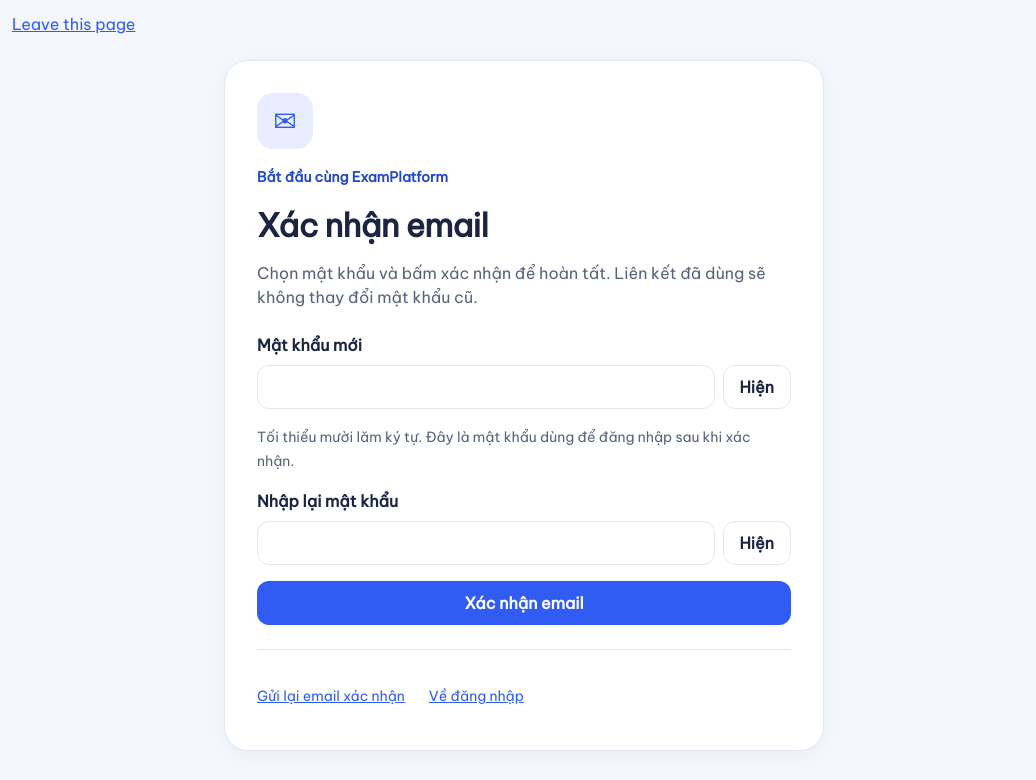
Test: identity request and session fences › does not navigate back to login after verification finishes on a different route
The image size is (1036, 780).
Type "fixture-password-ok" into the password field labelled "Mật khẩu mới".
click(486, 387); type("fixture-password-ok")  # box [257, 365, 714, 409]
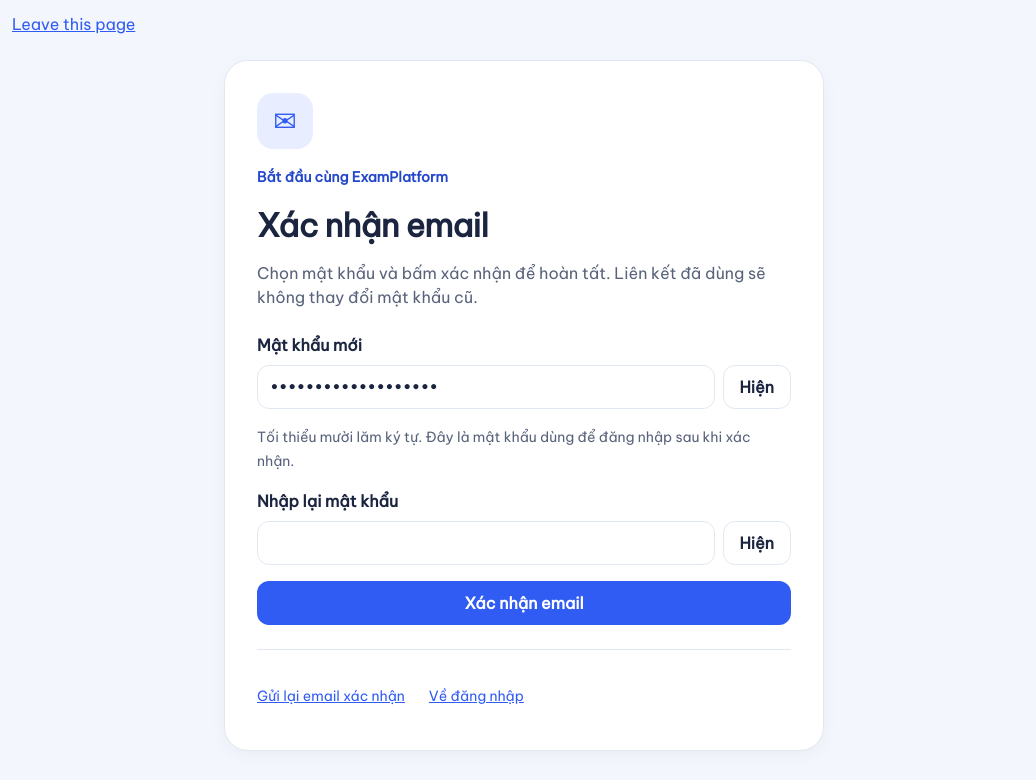
Type "fixture-password-ok" into the password field labelled "Nhập lại mật khẩu".
click(486, 543); type("fixture-password-ok")  # box [257, 521, 714, 565]
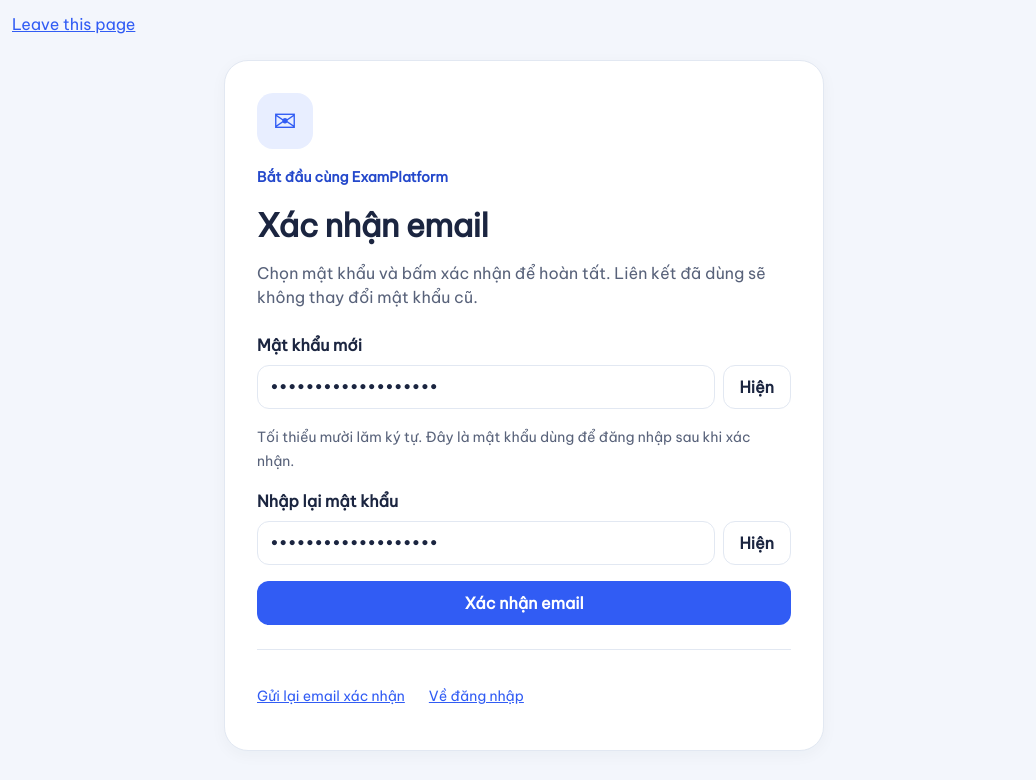
Click the button "Xác nhận email".
click(524, 603)  # box [257, 581, 791, 625]
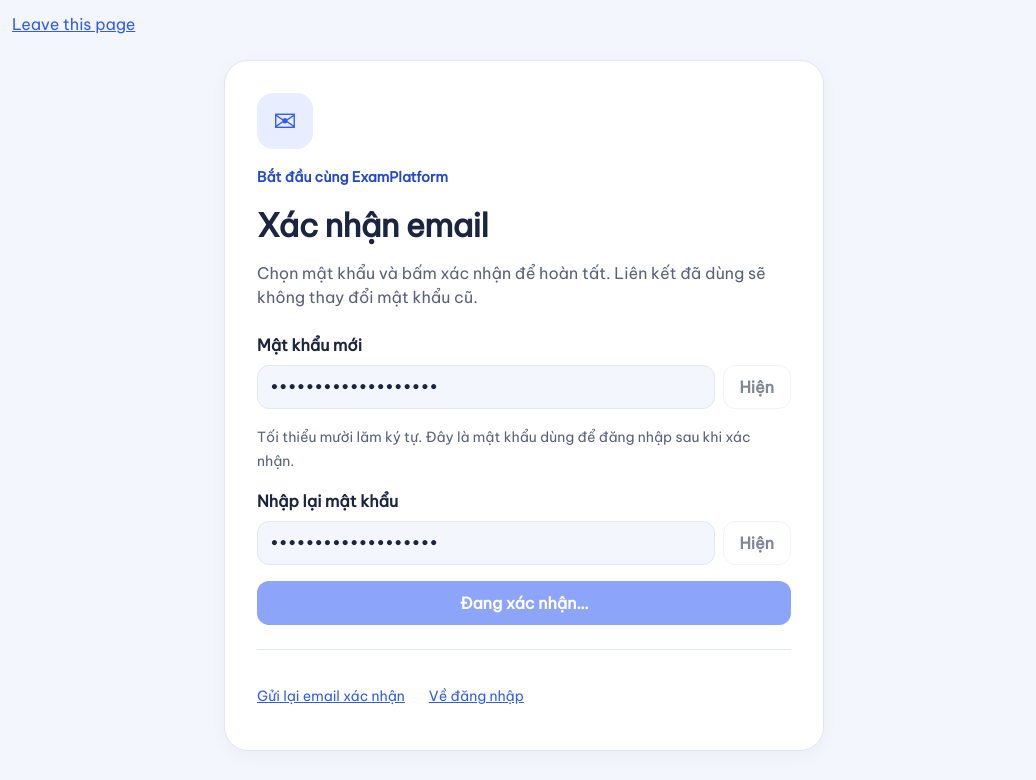
Click the link "Leave this page".
click(74, 24)  # box [12, 14, 135, 34]
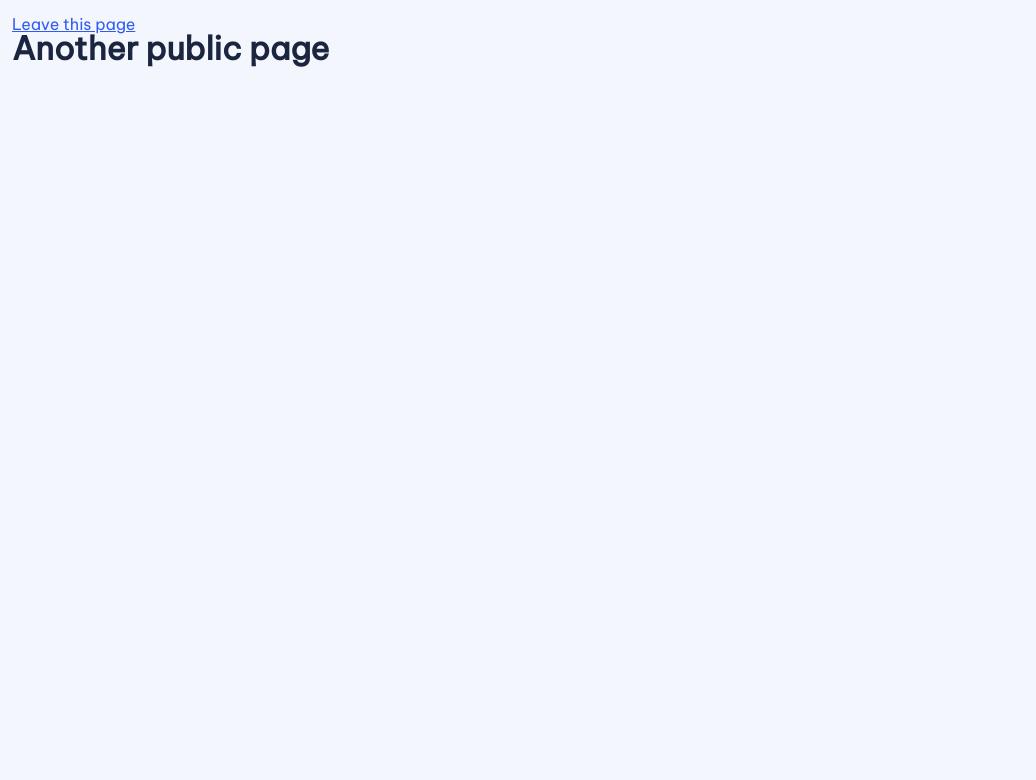
expect the heading "Another public page" is shown: met, box [12, 28, 329, 68]
